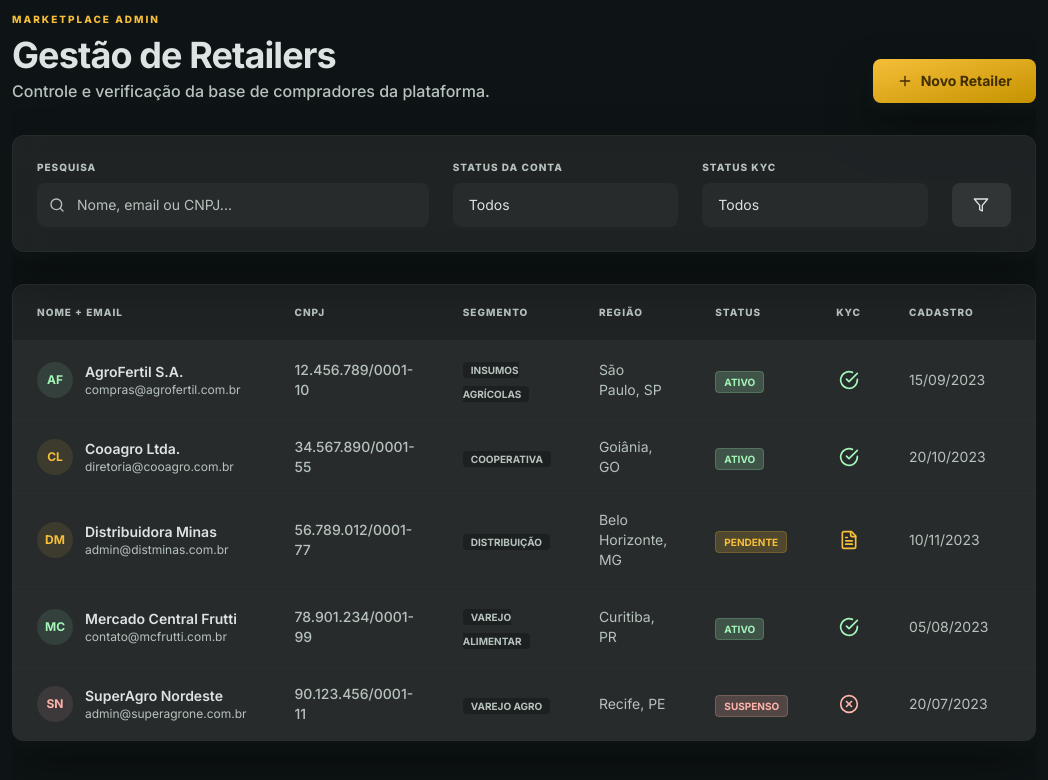
RetailersPage › should filter retailers by search term
The width and height of the screenshot is (1048, 780).
Type "xyznonexistent999" into the field with placeholder "Nome, email ou CNPJ..." at (233, 205), box [37,183,429,227]
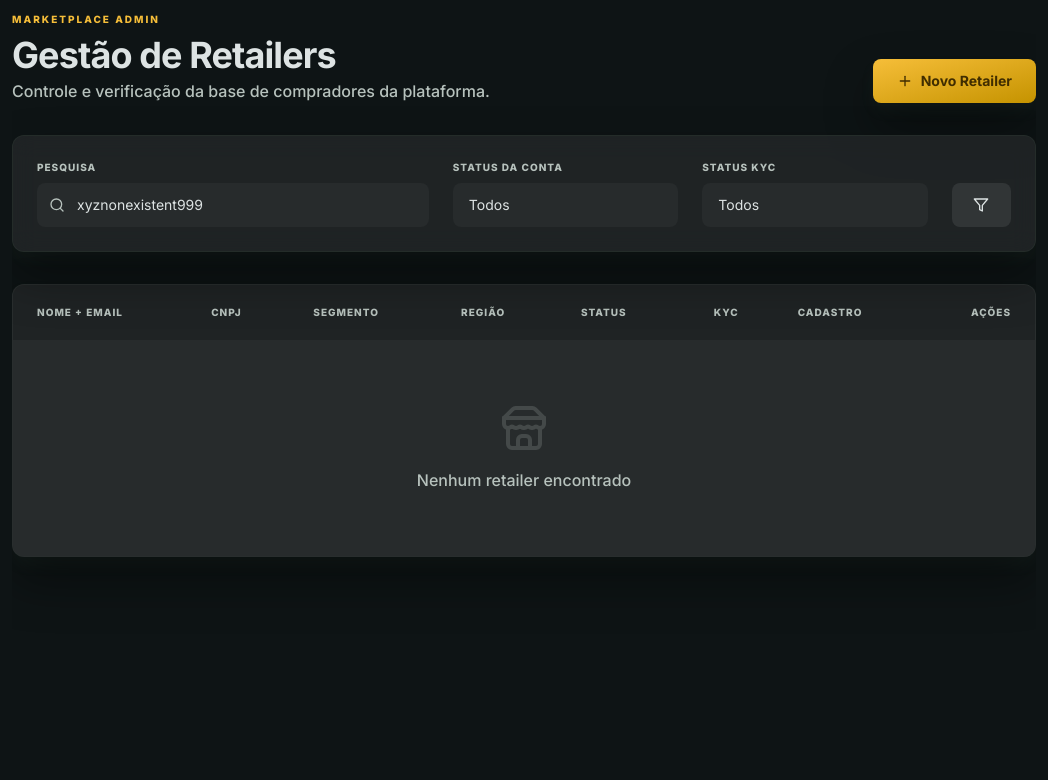
Now the text "Nenhum retailer encontrado" is shown, box [417,470,631,490]
